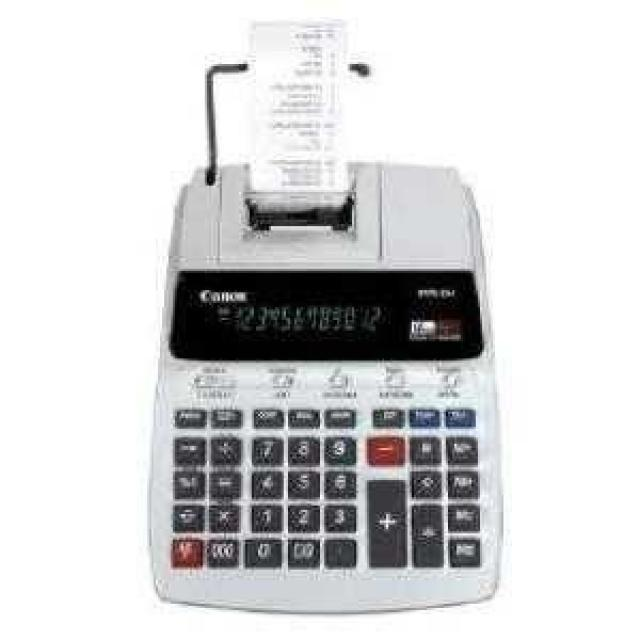Calculator: (149, 21, 501, 610)
